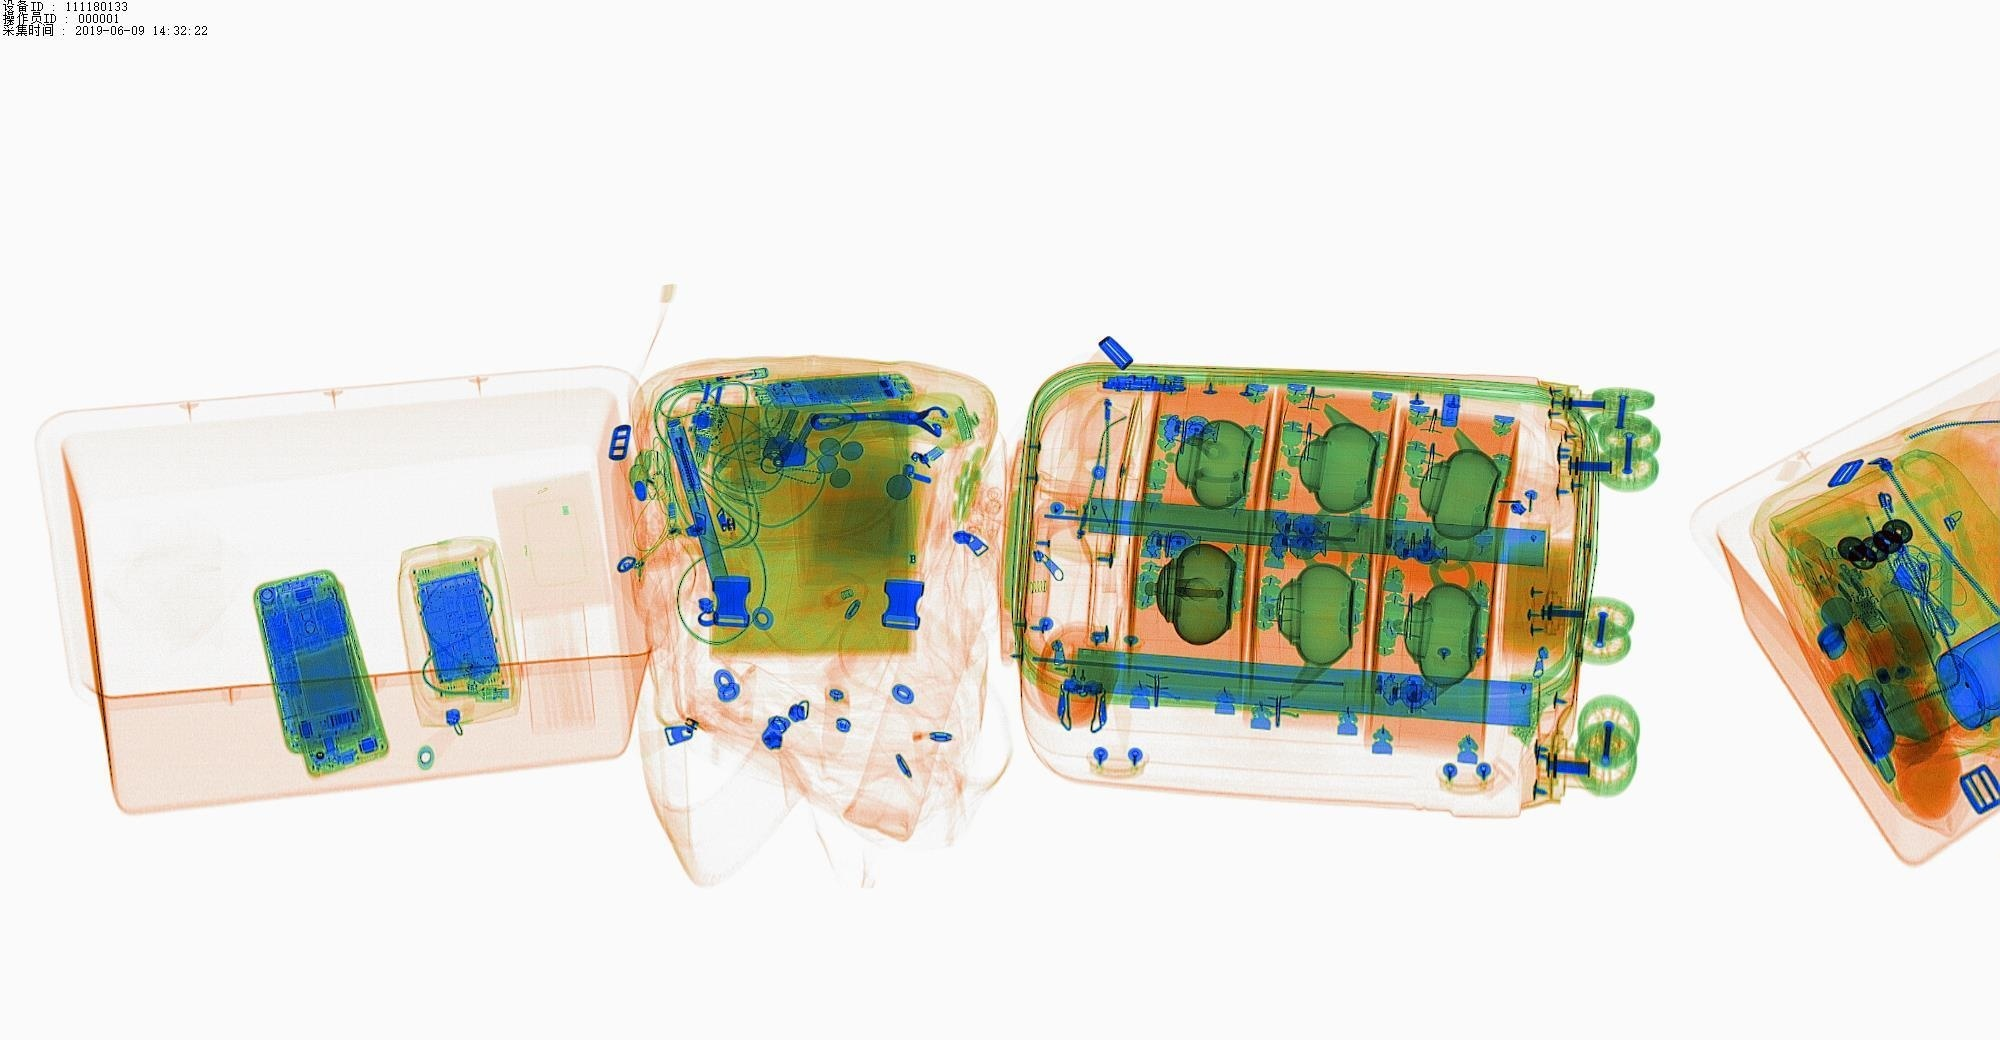NonmetallicFire: (655, 345, 783, 394)
